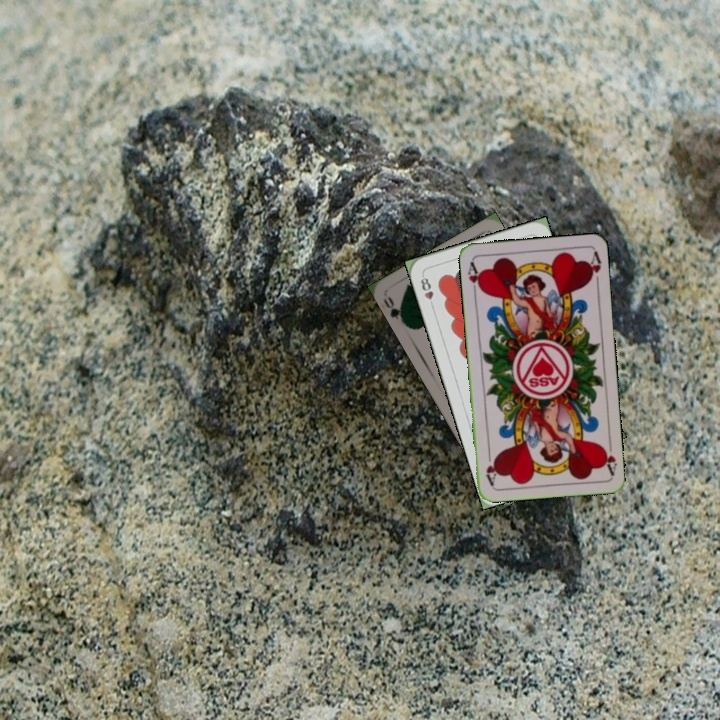GO: (379, 292, 409, 328)
H8: (417, 271, 437, 311)
HA: (598, 436, 619, 477), (464, 258, 485, 298)
